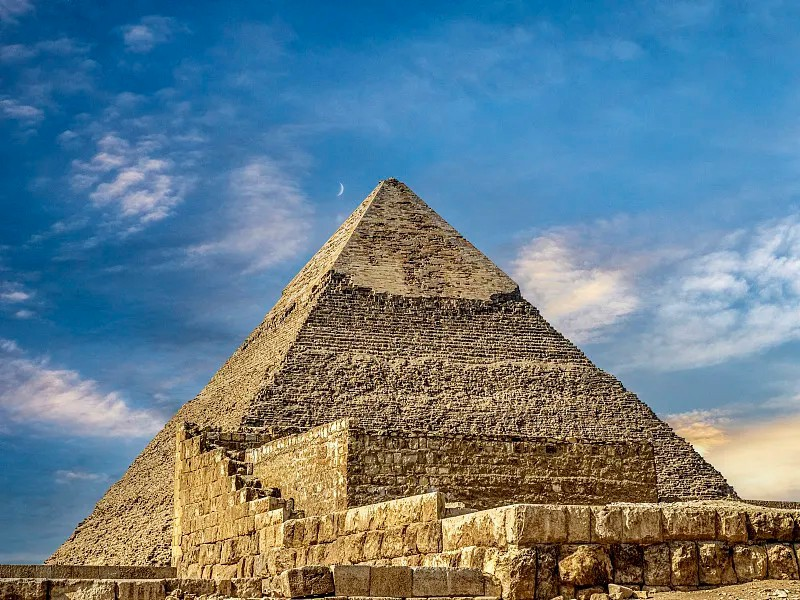Pyramid: (47, 178, 738, 564)
